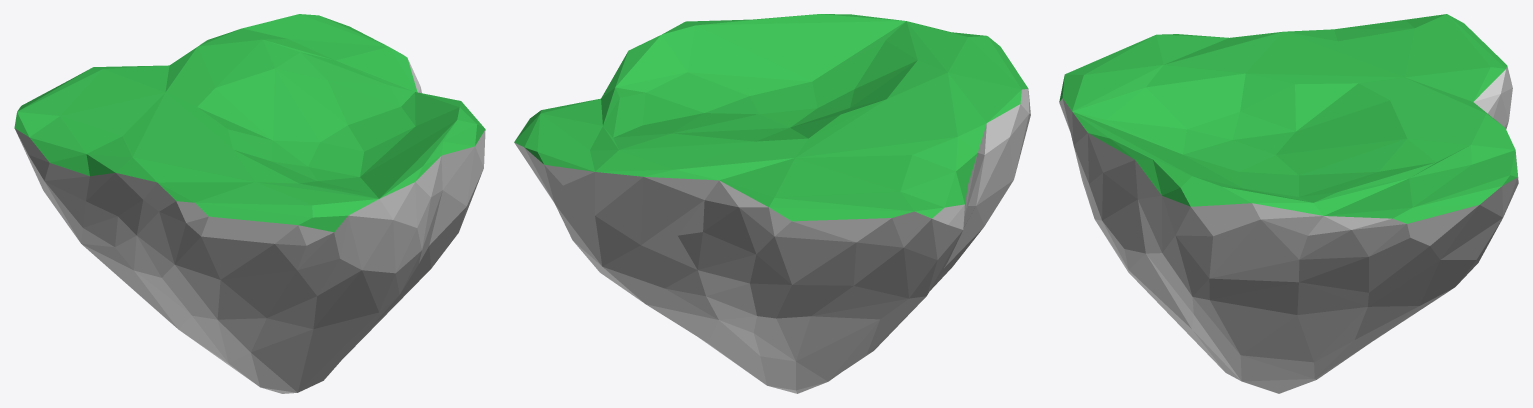
The model's file is island_8.fbx.
The picture shows the model from 3 angles, left to right: view 1: azimuth 30°, elevation 25°; view 2: azimuth 150°, elevation 25°; view 3: azimuth 270°, elevation 25°; orthographic projection. The views are drawn at different scales.
Parts seen in each view (by area): view 1: Plane; view 2: Plane; view 3: Plane.
Boxes of the visible parts, <box> form: Plane: <box>14,14,485,393</box>; Plane: <box>514,14,1030,393</box>; Plane: <box>1059,14,1518,393</box>.
Bounding box in the file's own units: 3096 × 2132 × 3090.
